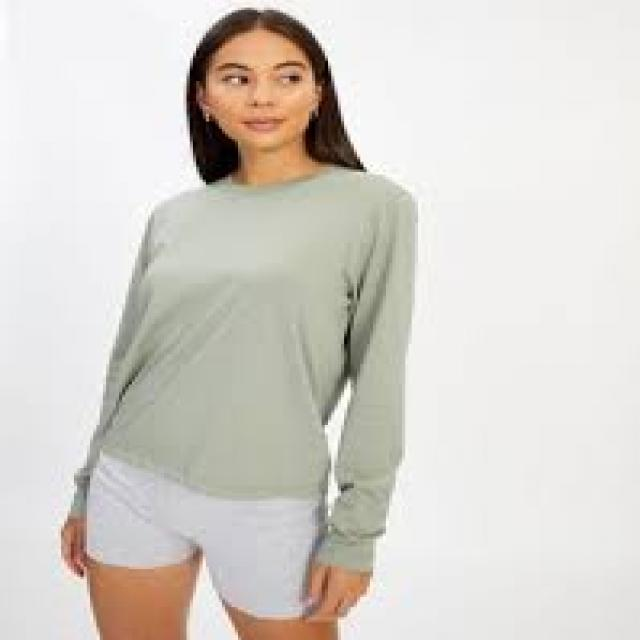plain: (80, 156, 424, 514)
